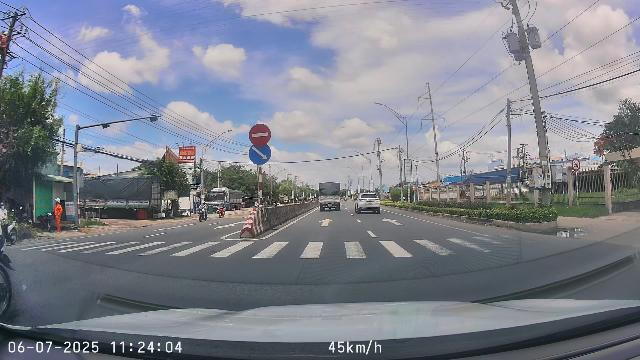102-cam-di-nguoc-chieu: (249, 124, 271, 145)
103a-cam-oto: (572, 158, 580, 171)
302a-huong-phai-di-vong-chuong-ngai-vat-1: (249, 144, 271, 165)
